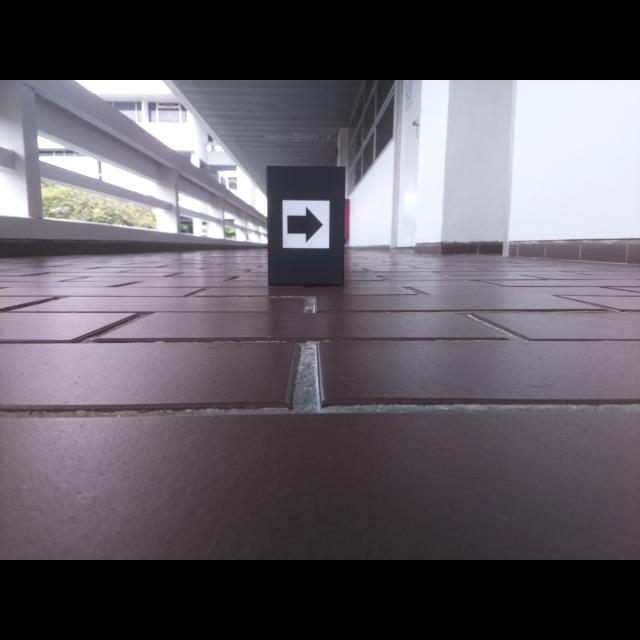RIGHT: (286, 204, 324, 245)
